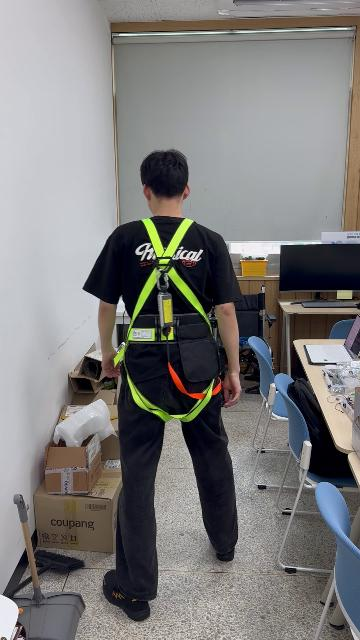helmet_not_worn: (138, 149, 193, 207)
shoe_worn: (103, 571, 151, 623), (215, 548, 234, 562)
vest_worn: (108, 224, 226, 421)
